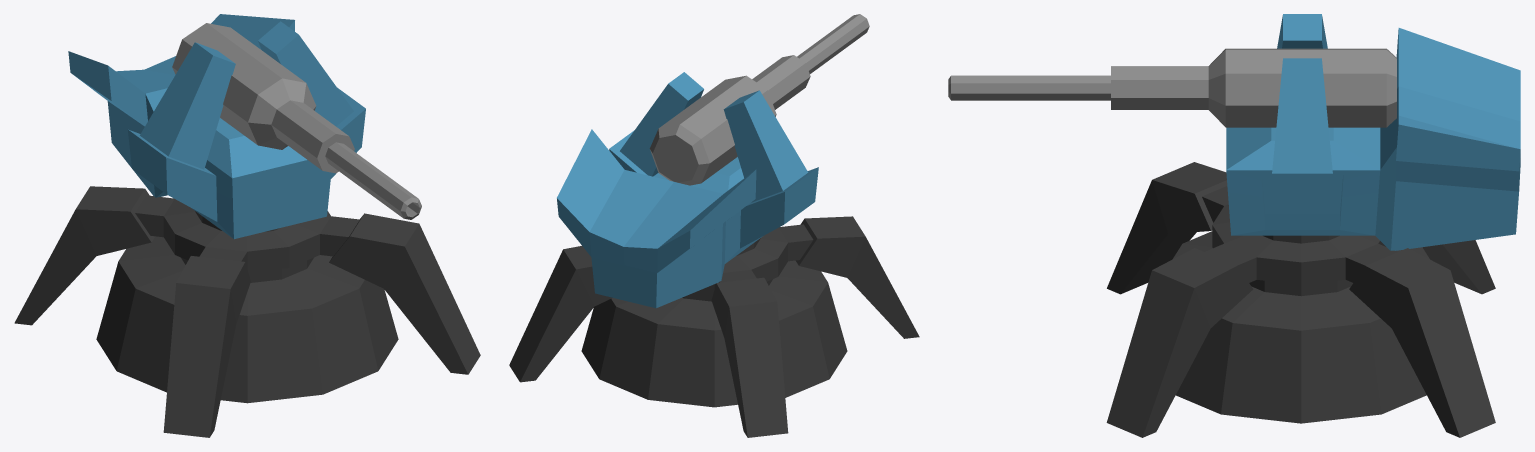
Rendered from Turrets_5.fbx.
3 renders of one model, left to right at view 1: azimuth 30°, elevation 25°; view 2: azimuth 150°, elevation 25°; view 3: azimuth 270°, elevation 25°, orthographic. The views are drawn at different scales.
Parts seen in each view (by area): view 1: Turret_3.001, Turret_3.003, Turret_3.002; view 2: Turret_3.001, Turret_3.003, Turret_3.002; view 3: Turret_3.001, Turret_3.003, Turret_3.002.
Part boxes in pixels (box(x1,y1,x2,y2)): Turret_3.001: box(14, 186, 480, 437); Turret_3.003: box(68, 14, 365, 239); Turret_3.002: box(172, 23, 421, 219); Turret_3.001: box(509, 216, 919, 437); Turret_3.003: box(557, 72, 818, 308); Turret_3.002: box(649, 14, 869, 185); Turret_3.001: box(1106, 162, 1495, 437); Turret_3.003: box(1226, 14, 1520, 250); Turret_3.002: box(948, 48, 1396, 127).
Size of the model in its own units: 2.42 by 2.19 by 3.57.
